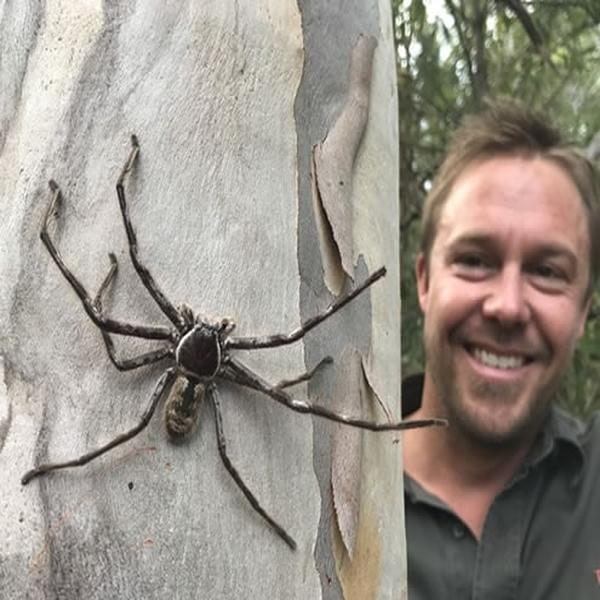Huntsman Spider: (33, 142, 429, 535)
